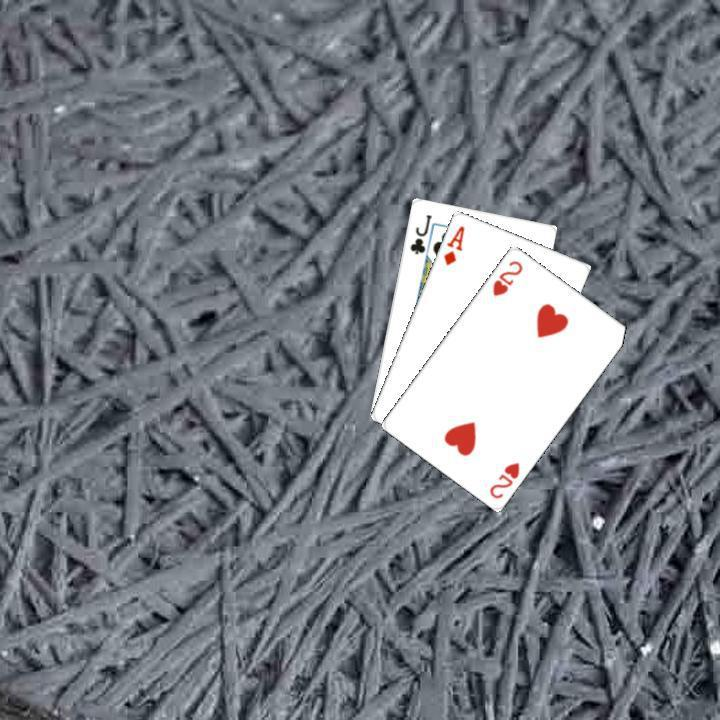2: (488, 255, 525, 298), (485, 457, 522, 500)
A: (439, 221, 466, 267)
J: (405, 209, 433, 256)
